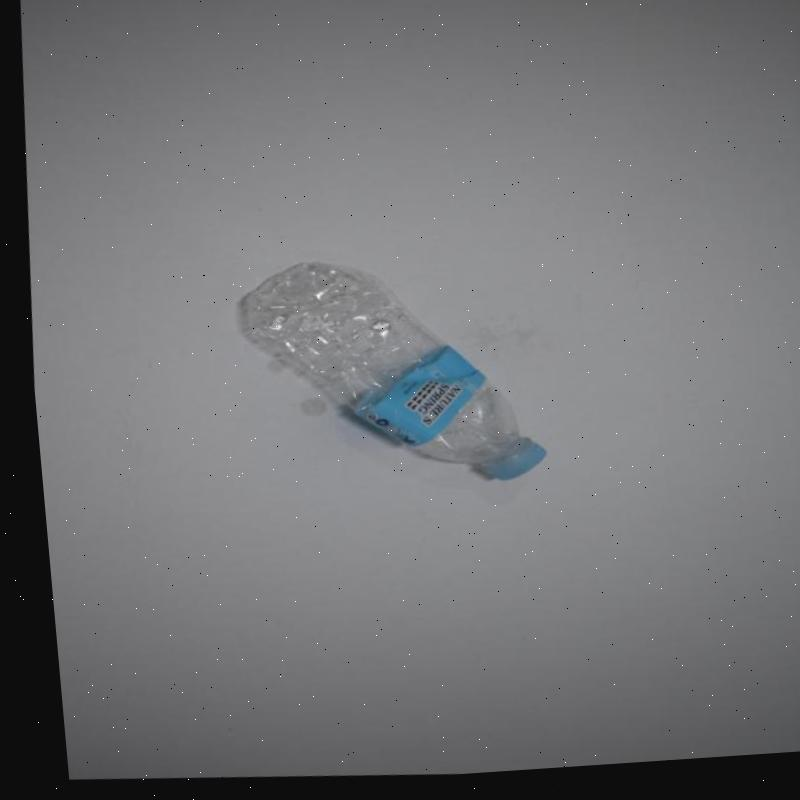botella: (222, 253, 554, 505)
